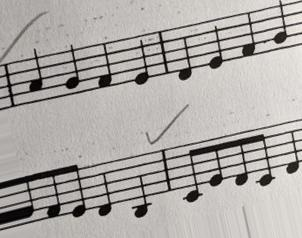A: (24, 46, 46, 103)
D: (170, 24, 196, 82), (92, 161, 114, 218), (281, 118, 301, 176)
E: (127, 32, 152, 88), (205, 16, 225, 73)
F: (92, 40, 115, 94), (239, 9, 259, 62)
G: (61, 42, 82, 100), (271, 1, 289, 50)
